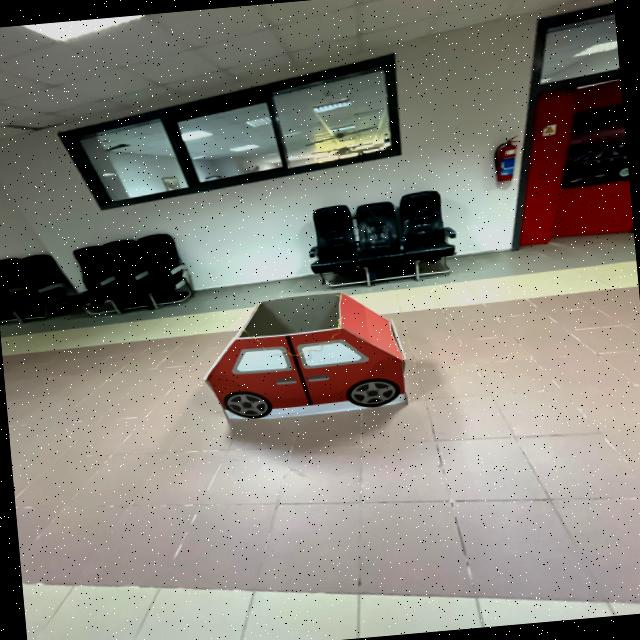red_car: (185, 276, 429, 443)
